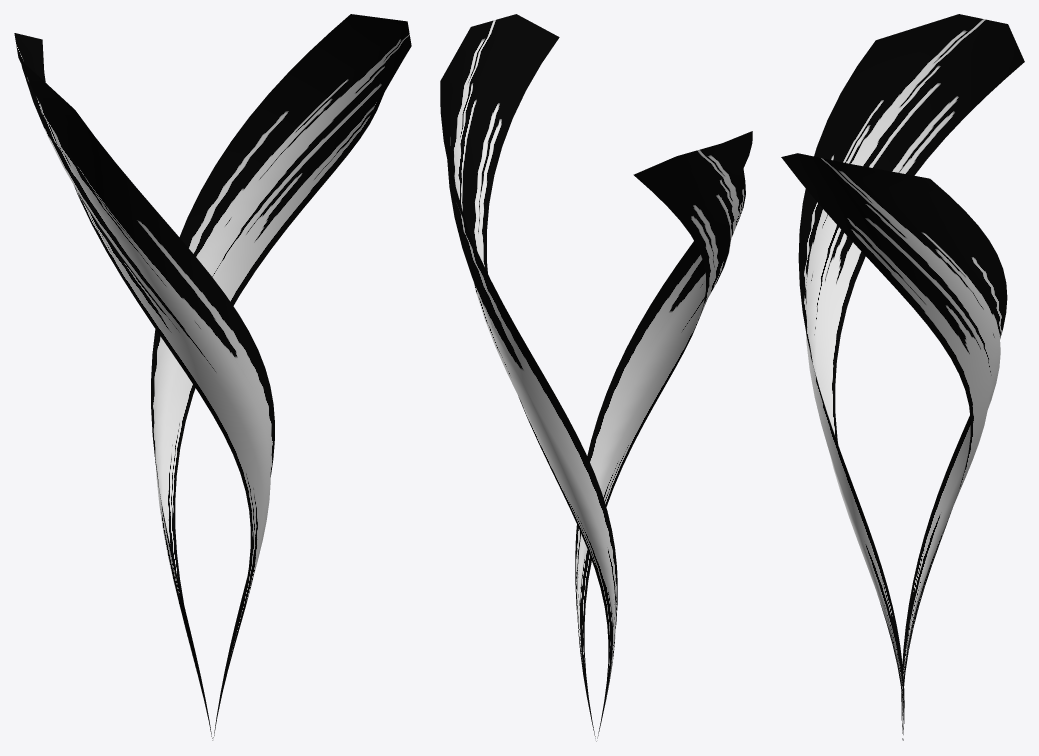
File: VFX_TwistTrail1.FBX
The picture shows the model from 3 angles, left to right: view 1: azimuth 30°, elevation 25°; view 2: azimuth 150°, elevation 25°; view 3: azimuth 270°, elevation 25°; orthographic projection. The views are drawn at different scales.
Visible parts, largest first — view 1: TwistTrail1; view 2: TwistTrail1; view 3: TwistTrail1.
Boxes of the visible parts, x1,y1,x2,y2 form: TwistTrail1: [14, 14, 411, 740]; TwistTrail1: [440, 14, 752, 741]; TwistTrail1: [781, 14, 1024, 740].
Bounding box in the file's own units: 79.7 × 163 × 55.
